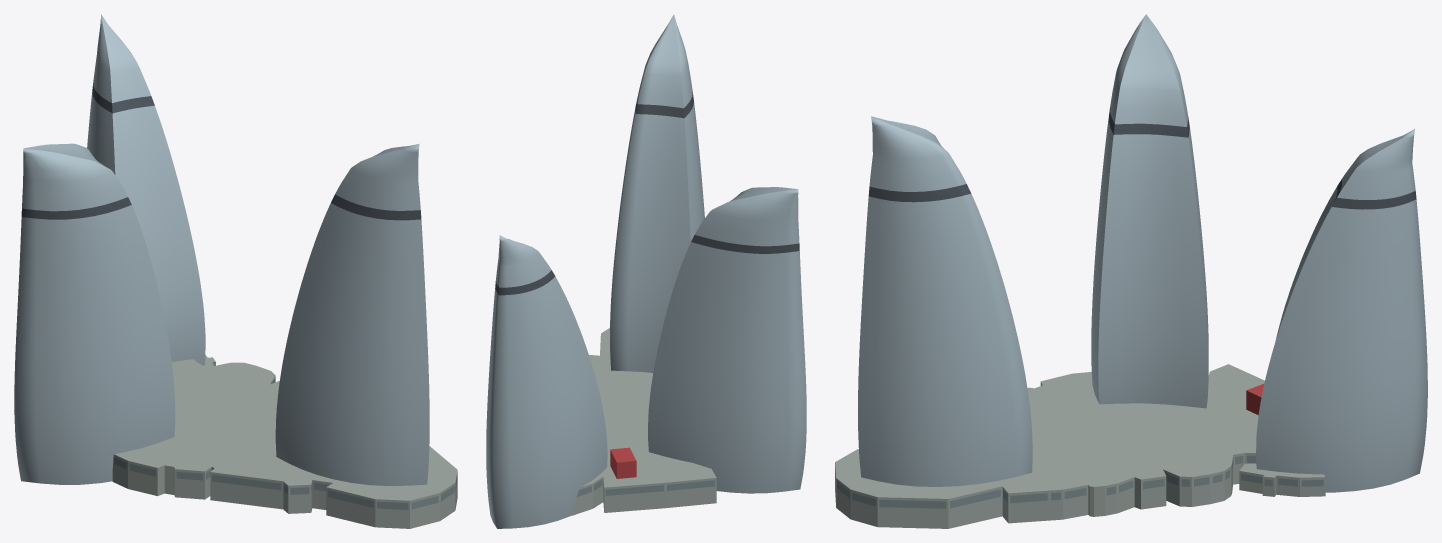
The model's file is baku-flame-towers.glb.
The picture shows the model from 3 angles, left to right: view 1: azimuth 30°, elevation 25°; view 2: azimuth 150°, elevation 25°; view 3: azimuth 270°, elevation 25°; orthographic projection. The views are drawn at different scales.
Parts seen in each view (by area): view 1: Flame Towers; view 2: Flame Towers; view 3: Flame Towers.
Boxes of the visible parts, box(x1,y1,x2,y2) form: Flame Towers: box(14, 14, 457, 528); Flame Towers: box(486, 14, 806, 528); Flame Towers: box(835, 14, 1427, 528).
Bounding box in the file's own units: 167 × 182 × 251.
